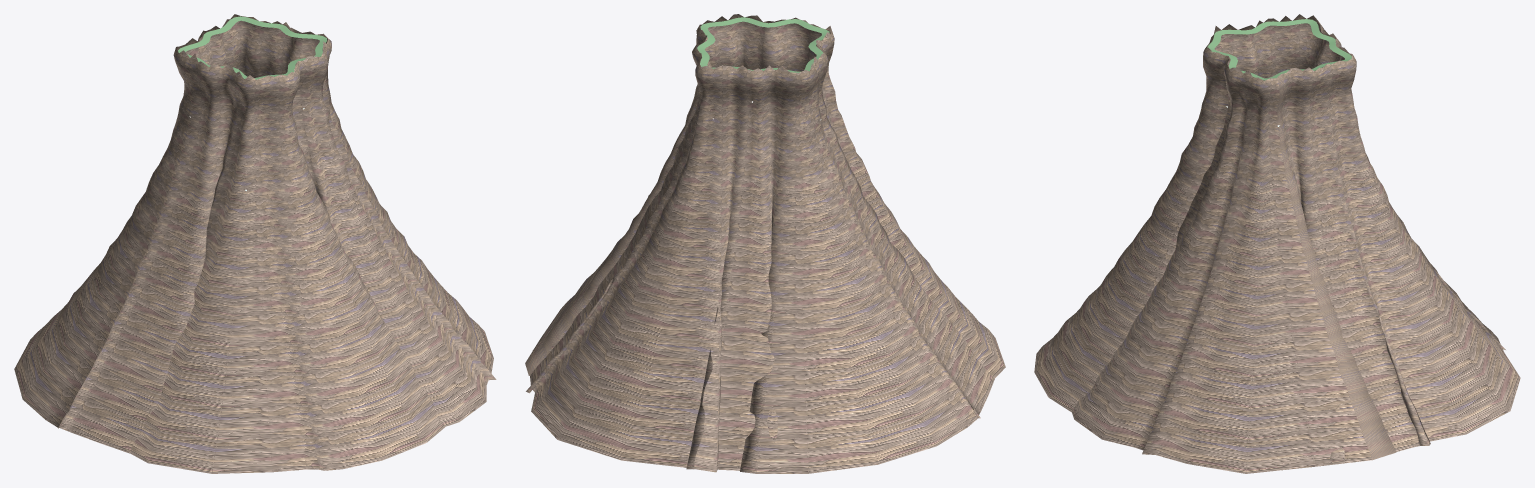
Rendered from CliffWall_stack_12.glb.
3 renders of one model, left to right at view 1: azimuth 30°, elevation 25°; view 2: azimuth 150°, elevation 25°; view 3: azimuth 270°, elevation 25°, orthographic. The views are drawn at different scales.
Parts seen in each view (by area): view 1: CliffWall_stack_12-rock0, CliffWall_stack_12-lip0; view 2: CliffWall_stack_12-rock0, CliffWall_stack_12-lip0; view 3: CliffWall_stack_12-rock0, CliffWall_stack_12-lip0.
Boxes of the visible parts, x1,y1,x2,y2 form: CliffWall_stack_12-rock0: (14, 14, 496, 473); CliffWall_stack_12-lip0: (178, 16, 326, 79); CliffWall_stack_12-rock0: (525, 14, 1005, 473); CliffWall_stack_12-lip0: (697, 17, 829, 72); CliffWall_stack_12-rock0: (1034, 14, 1520, 473); CliffWall_stack_12-lip0: (1207, 19, 1351, 80).
Bounding box in the file's own units: 569 × 426 × 573.
4 materials, 1 textured.
